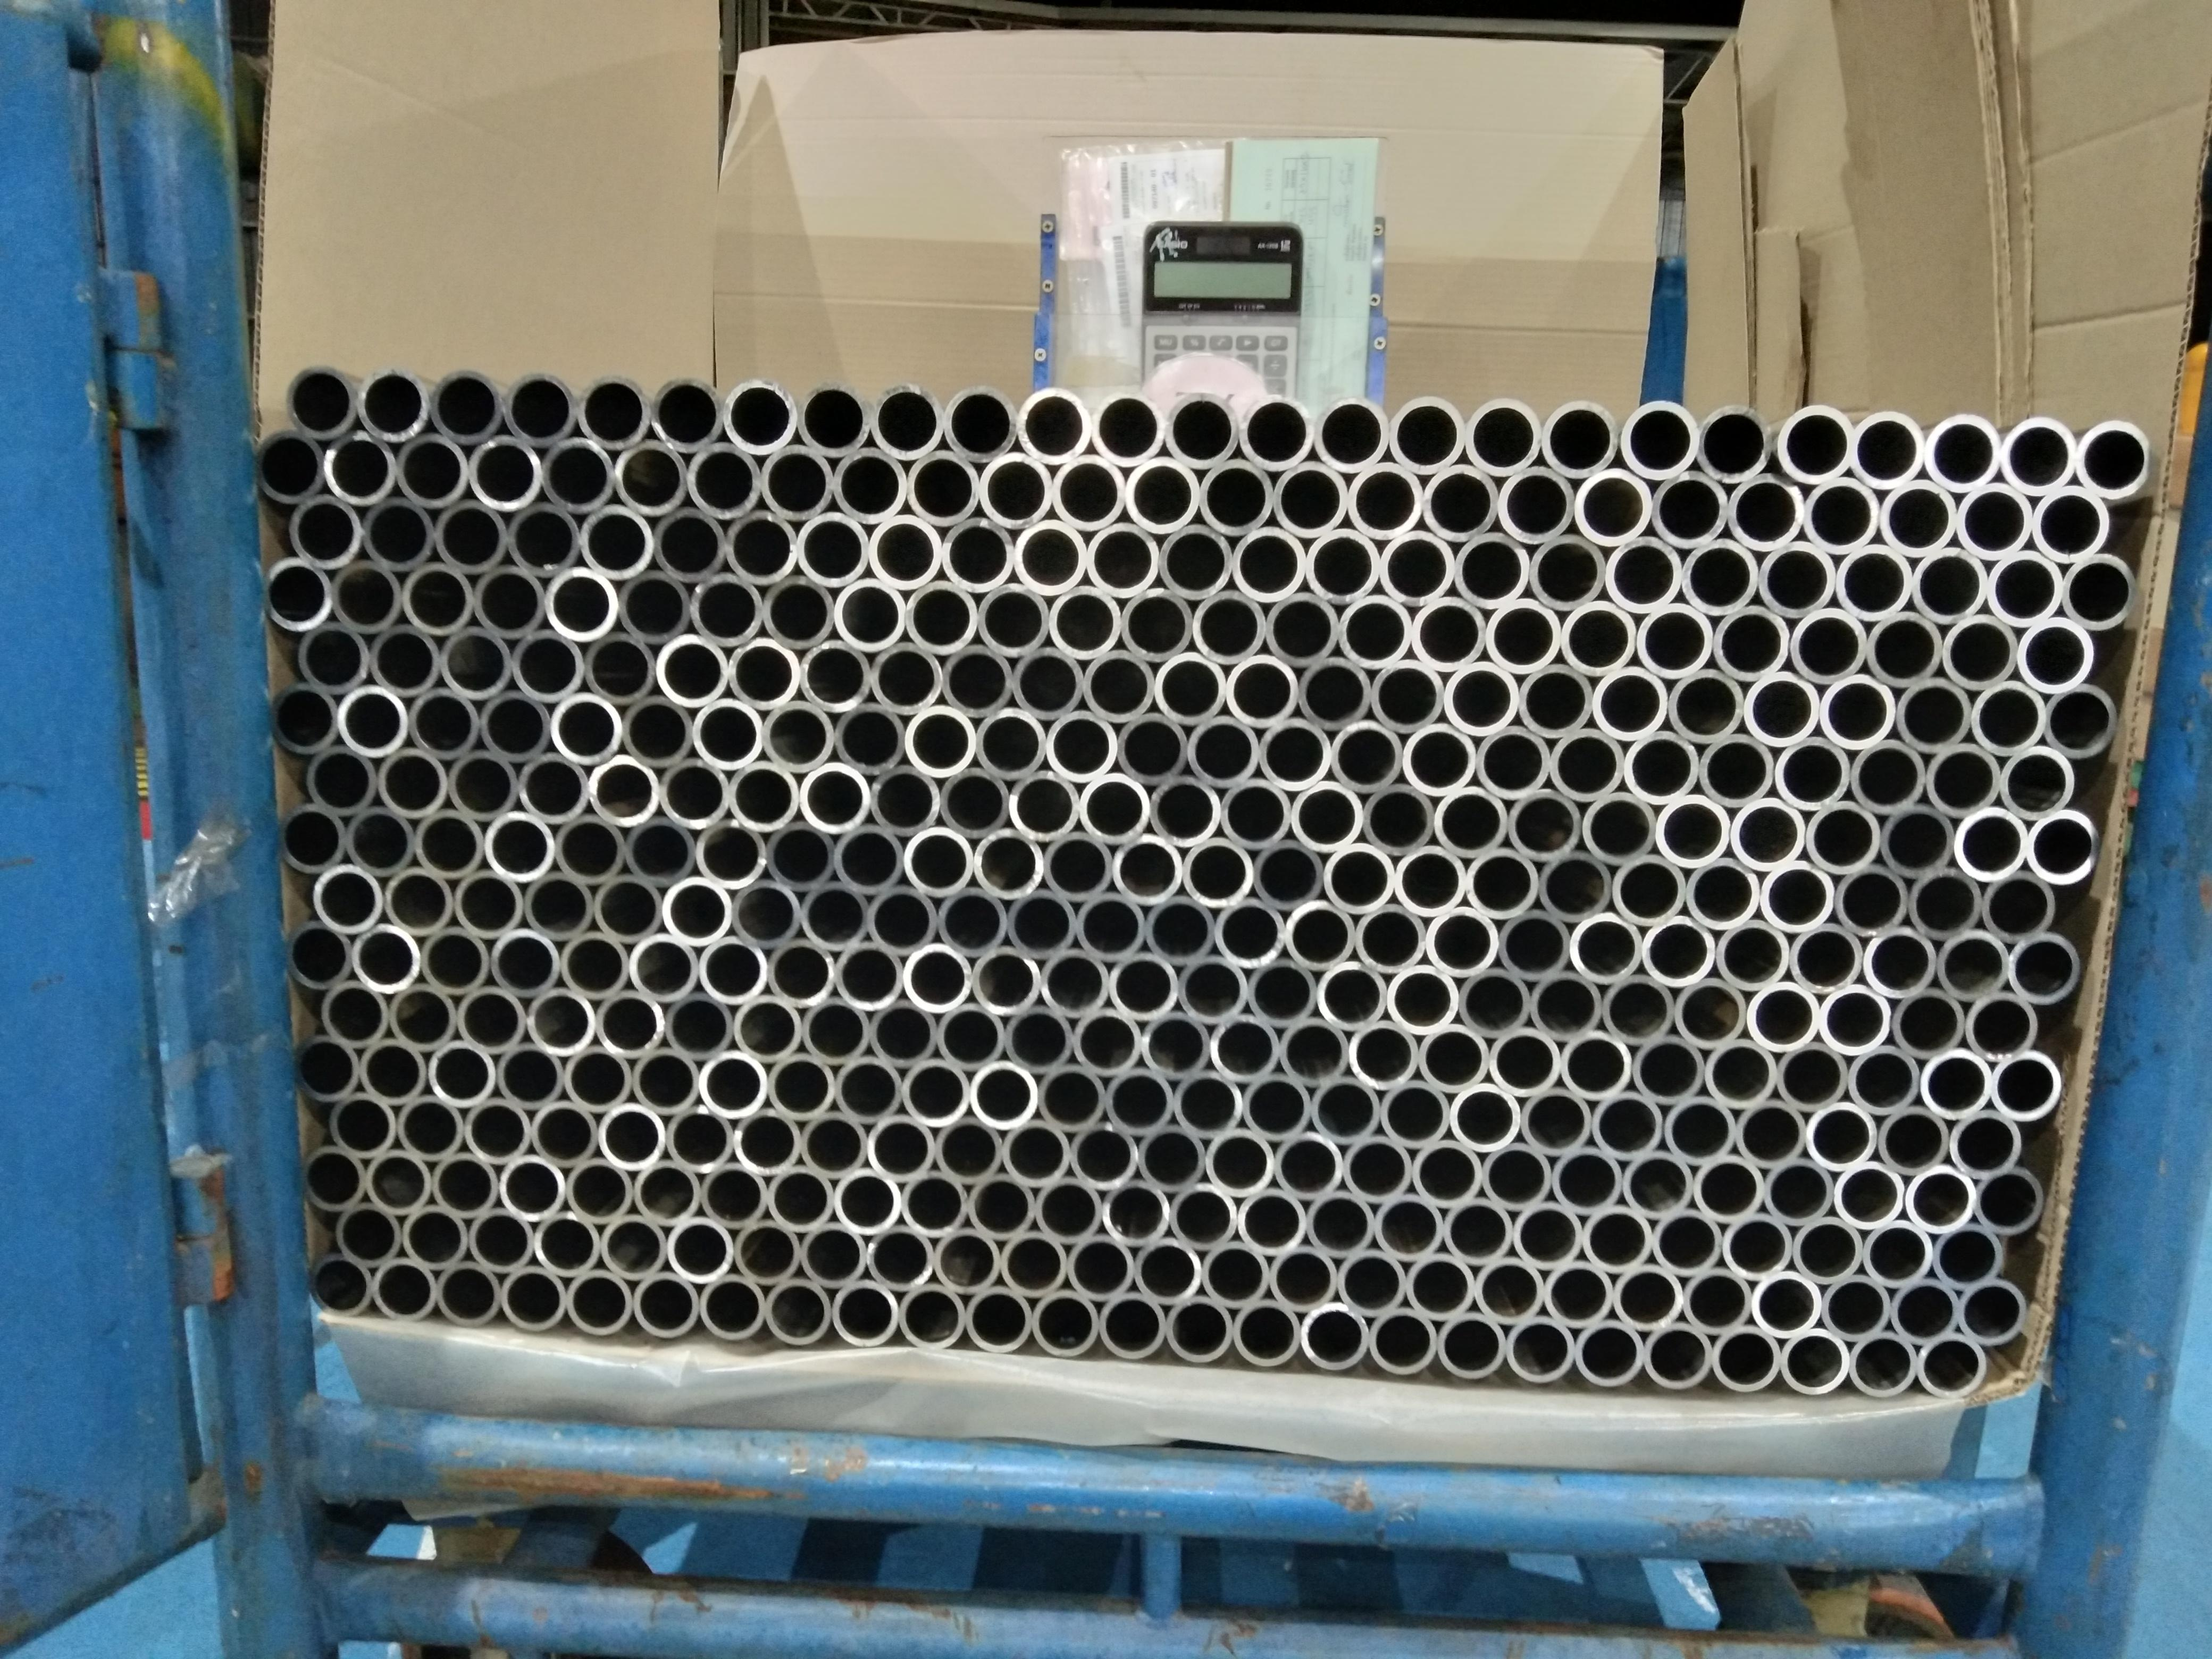pipe: (1572, 464, 1652, 548), (1694, 401, 1773, 484), (1540, 397, 1620, 479), (1650, 466, 1728, 550), (2073, 418, 2152, 500), (1787, 605, 1867, 686), (1528, 530, 1607, 612), (612, 435, 690, 518), (1774, 404, 1853, 485), (1496, 463, 1575, 544), (1197, 455, 1275, 538), (1802, 473, 1880, 555), (2031, 481, 2108, 564), (1623, 400, 1703, 480), (1833, 541, 1913, 622), (1463, 396, 1542, 476), (1680, 536, 1759, 617), (1421, 460, 1498, 542), (1726, 470, 1804, 552), (1955, 479, 2032, 561), (1451, 529, 1530, 609), (1878, 477, 1957, 557), (1756, 539, 1835, 618), (1605, 533, 1682, 614), (1162, 389, 1240, 470), (1999, 415, 2076, 496), (1124, 453, 1200, 535), (1711, 603, 1789, 682), (1817, 672, 1896, 750), (1547, 725, 1627, 803), (1865, 608, 1942, 688), (1909, 544, 1987, 625), (1485, 594, 1562, 675), (1272, 457, 1347, 540), (1635, 600, 1713, 680), (1941, 611, 2018, 691), (427, 365, 505, 445), (1387, 395, 1465, 474), (1923, 412, 2000, 492), (1579, 789, 1659, 866), (1347, 459, 1422, 541), (1409, 594, 1487, 673), (1157, 521, 1234, 601), (2060, 549, 2136, 630), (2016, 614, 2092, 694), (575, 370, 651, 451), (1847, 408, 1923, 489), (1666, 667, 1745, 744), (1924, 740, 2001, 819), (1878, 802, 1956, 879), (1742, 668, 1819, 748), (1848, 736, 1925, 815), (1985, 548, 2062, 627), (977, 450, 1053, 530), (1051, 451, 1126, 533), (1591, 664, 1669, 742), (1653, 792, 1731, 870), (1516, 660, 1594, 739), (1894, 675, 1971, 753), (1622, 728, 1700, 806), (1379, 527, 1455, 607), (616, 566, 692, 646), (1443, 658, 1519, 738), (904, 448, 980, 528), (501, 367, 576, 448), (467, 431, 542, 512), (540, 434, 615, 515), (395, 428, 468, 510), (942, 383, 1018, 462), (685, 440, 761, 519), (506, 498, 581, 578), (1085, 518, 1160, 599), (1697, 731, 1774, 809), (1772, 734, 1850, 811), (283, 361, 360, 439), (1969, 678, 2045, 757), (2040, 680, 2116, 759), (1239, 393, 1315, 472), (1312, 394, 1388, 473), (1998, 743, 2074, 822), (1305, 525, 1379, 605), (832, 444, 907, 524), (1562, 601, 1639, 678), (1505, 786, 1583, 862), (1296, 653, 1372, 732), (1151, 649, 1227, 727), (940, 514, 1015, 593), (1013, 517, 1087, 597), (1263, 589, 1338, 669), (760, 442, 834, 522), (1231, 523, 1305, 603), (650, 372, 723, 453), (1119, 585, 1194, 663), (1190, 587, 1266, 665), (1337, 591, 1412, 669), (796, 379, 871, 458), (1369, 657, 1445, 734), (1804, 798, 1881, 875), (471, 562, 547, 639), (1474, 723, 1550, 800), (1953, 805, 2028, 883), (361, 493, 435, 572), (869, 381, 944, 460), (1090, 388, 1164, 466), (579, 501, 653, 581), (724, 506, 797, 586), (356, 363, 429, 443), (1017, 385, 1090, 465), (581, 629, 657, 706), (1328, 717, 1404, 794), (1729, 795, 1805, 872), (1081, 646, 1155, 724), (1402, 719, 1476, 798), (796, 509, 870, 588), (433, 496, 507, 575), (723, 376, 797, 455), (323, 428, 396, 507), (1360, 780, 1436, 856), (1463, 845, 1539, 921), (832, 575, 907, 652), (725, 634, 800, 711), (868, 512, 942, 591), (439, 622, 512, 701), (1114, 710, 1189, 786), (975, 581, 1050, 657), (619, 692, 694, 769), (1432, 783, 1507, 859), (904, 578, 978, 655), (296, 618, 370, 696), (651, 505, 725, 583), (833, 699, 907, 777), (289, 492, 363, 569), (400, 559, 473, 637), (544, 564, 617, 642), (1048, 582, 1121, 660), (1044, 706, 1118, 784), (1256, 715, 1331, 792), (761, 573, 834, 650), (368, 621, 441, 698), (761, 697, 834, 775), (510, 626, 584, 702), (1540, 849, 1614, 925), (406, 684, 480, 761), (479, 687, 552, 764), (1225, 651, 1297, 729), (253, 426, 325, 504), (1320, 840, 1395, 915), (1288, 778, 1363, 853), (690, 571, 764, 648), (656, 632, 729, 709), (1011, 644, 1084, 720), (515, 753, 593, 824), (1146, 773, 1221, 848), (1218, 775, 1292, 850), (974, 705, 1047, 781), (1686, 857, 1759, 933), (1760, 860, 1833, 936), (1832, 865, 1906, 941), (1980, 868, 2054, 944), (2006, 931, 2080, 1007), (940, 642, 1012, 718), (550, 689, 622, 766), (1424, 904, 1498, 978), (798, 637, 872, 713), (1393, 842, 1466, 918), (1907, 868, 1980, 944), (1495, 909, 1569, 984), (1568, 912, 1641, 988), (1643, 914, 1716, 989), (1716, 917, 1790, 993), (1789, 921, 1862, 996), (1863, 926, 1936, 1002), (1936, 928, 2009, 1004), (1385, 961, 1458, 1037), (1457, 966, 1530, 1042), (1527, 971, 1600, 1047), (1600, 972, 1673, 1048), (1675, 976, 1749, 1052), (1746, 978, 1819, 1053), (1817, 984, 1890, 1060), (1891, 986, 1965, 1061), (1965, 988, 2039, 1064), (1345, 1021, 1419, 1096), (1419, 1022, 1492, 1097), (1488, 1027, 1562, 1103), (1560, 1029, 1633, 1105), (1631, 1033, 1704, 1109), (1706, 1038, 1779, 1113), (1773, 1043, 1847, 1118), (1847, 1045, 1920, 1120), (1921, 1045, 1994, 1120), (1988, 1050, 2061, 1125), (1237, 1068, 1311, 1144), (1308, 1073, 1381, 1149), (1377, 1078, 1450, 1154), (1446, 1082, 1520, 1158), (1520, 1084, 1594, 1160), (1590, 1089, 1663, 1164), (1664, 1094, 1737, 1170), (1732, 1098, 1806, 1174), (1803, 1101, 1876, 1176), (1875, 1103, 1949, 1179), (1947, 1105, 2020, 1181), (1271, 1128, 1345, 1203), (1691, 1153, 1765, 1229), (1763, 1154, 1836, 1230), (1835, 1157, 1908, 1233), (1904, 1163, 1977, 1238), (1973, 1164, 2047, 1239), (329, 558, 401, 634), (936, 765, 1010, 840), (1077, 770, 1151, 844), (1250, 838, 1324, 912), (657, 755, 731, 829), (1612, 852, 1686, 927), (2026, 808, 2098, 884), (869, 640, 941, 716), (1353, 901, 1426, 975), (1187, 712, 1259, 789), (552, 811, 626, 885), (624, 814, 697, 888), (903, 703, 976, 777), (1180, 834, 1253, 909), (445, 747, 517, 822), (483, 809, 556, 883), (337, 683, 409, 758), (588, 752, 659, 827), (832, 822, 904, 895), (1074, 890, 1147, 963), (1316, 958, 1388, 1032), (1008, 767, 1079, 842), (1041, 828, 1112, 903), (1212, 895, 1285, 968), (305, 744, 378, 816), (868, 764, 940, 837), (413, 806, 485, 879), (971, 827, 1043, 900), (902, 824, 975, 896), (1111, 832, 1183, 906), (522, 870, 595, 942), (867, 882, 938, 955), (1277, 1016, 1350, 1087), (376, 745, 447, 819), (1144, 893, 1214, 967), (1409, 1141, 1482, 1211), (1478, 1143, 1552, 1213), (1548, 1146, 1622, 1217), (1622, 1151, 1696, 1222), (1372, 1192, 1446, 1262), (1441, 1198, 1515, 1269), (1511, 1202, 1585, 1272), (1580, 1204, 1654, 1275), (1649, 1208, 1723, 1278), (1720, 1211, 1794, 1282), (1790, 1215, 1864, 1286), (1863, 1220, 1937, 1291), (1929, 1221, 2002, 1292), (1403, 1254, 1477, 1325), (1473, 1256, 1547, 1327), (1611, 1262, 1685, 1333), (1541, 1262, 1615, 1333), (1680, 1268, 1754, 1339), (1749, 1269, 1823, 1340), (1820, 1273, 1894, 1344), (1887, 1274, 1961, 1345), (1953, 1278, 2027, 1348), (1432, 1312, 1506, 1383), (1505, 1314, 1579, 1385), (1571, 1318, 1645, 1388), (1639, 1321, 1713, 1392), (1708, 1321, 1782, 1392), (1779, 1327, 1853, 1398), (1847, 1329, 1921, 1400), (1914, 1331, 1988, 1402), (381, 865, 453, 937), (452, 867, 524, 939), (488, 927, 560, 999), (1038, 946, 1110, 1019), (936, 885, 1008, 957), (312, 862, 384, 933), (801, 761, 872, 834), (345, 804, 415, 877), (270, 681, 339, 756), (901, 944, 975, 1013), (764, 819, 835, 891), (1005, 888, 1077, 959), (764, 936, 836, 1007), (419, 924, 490, 996), (799, 878, 868, 952), (727, 760, 799, 832), (1285, 902, 1357, 973), (1343, 1136, 1415, 1207), (352, 923, 422, 995), (695, 816, 765, 889), (695, 697, 763, 772), (628, 932, 699, 1003), (1178, 956, 1249, 1027), (1248, 957, 1319, 1028), (1070, 1008, 1141, 1079), (1209, 1012, 1279, 1084), (1139, 1013, 1210, 1084), (592, 872, 663, 944), (661, 874, 732, 946), (1107, 951, 1179, 1021), (1003, 1003, 1073, 1075), (1036, 1061, 1105, 1134), (1105, 1064, 1174, 1137), (1171, 1069, 1240, 1142), (1069, 1117, 1138, 1189), (1002, 1118, 1071, 1191), (1141, 1121, 1210, 1194), (1204, 1128, 1273, 1201), (1034, 1174, 1103, 1246), (1101, 1176, 1170, 1249), (1167, 1181, 1236, 1254), (1235, 1186, 1304, 1259), (1305, 1188, 1374, 1261), (1134, 1235, 1203, 1308), (1200, 1239, 1269, 1312), (1267, 1243, 1336, 1316), (1338, 1246, 1407, 1319), (1164, 1292, 1234, 1365), (1233, 1296, 1302, 1369), (1300, 1298, 1369, 1371), (1368, 1306, 1437, 1379), (833, 939, 903, 1010), (455, 984, 526, 1054), (867, 998, 938, 1069), (935, 1000, 1006, 1071), (898, 1170, 970, 1240), (800, 994, 869, 1067), (696, 934, 767, 1004), (663, 990, 733, 1061), (697, 1052, 768, 1122), (767, 1054, 838, 1124), (835, 1056, 906, 1126), (901, 1057, 971, 1127), (800, 1110, 871, 1180), (864, 1114, 935, 1184), (932, 1117, 1003, 1187), (966, 1172, 1036, 1242), (931, 1225, 1001, 1295), (998, 1231, 1069, 1301), (1065, 1232, 1136, 1302), (1030, 1291, 1101, 1361), (1097, 1291, 1168, 1361), (970, 944, 1040, 1016), (969, 1059, 1038, 1130), (732, 881, 803, 950), (386, 982, 457, 1050), (731, 993, 801, 1063), (319, 977, 388, 1048), (529, 1099, 599, 1168), (276, 803, 346, 874), (425, 1037, 496, 1106), (491, 1042, 562, 1110), (286, 918, 353, 991), (395, 1093, 465, 1161), (559, 932, 629, 1001), (594, 987, 664, 1057), (526, 988, 595, 1058), (358, 1035, 427, 1104), (562, 1044, 631, 1113), (631, 1046, 700, 1116), (597, 1102, 668, 1169), (665, 1107, 735, 1174), (734, 1108, 805, 1175), (564, 1157, 635, 1224), (634, 1158, 705, 1225), (699, 1161, 770, 1228), (766, 1166, 836, 1233), (832, 1170, 903, 1237), (799, 1110, 868, 1178), (328, 1090, 396, 1159), (301, 1142, 368, 1211), (365, 1150, 432, 1219), (430, 1151, 498, 1220), (498, 1153, 565, 1222), (335, 1198, 403, 1267), (399, 1204, 467, 1273), (468, 1207, 535, 1276), (600, 1211, 667, 1280), (533, 1212, 601, 1281), (666, 1217, 733, 1286), (731, 1219, 798, 1288), (799, 1221, 867, 1290), (867, 1224, 935, 1293), (306, 1252, 373, 1321), (372, 1254, 439, 1323), (435, 1259, 503, 1328), (502, 1263, 569, 1333), (632, 1268, 700, 1337), (564, 1270, 631, 1339), (697, 1272, 765, 1342), (765, 1276, 832, 1345), (833, 1280, 901, 1349), (899, 1283, 966, 1352), (966, 1287, 1033, 1356), (464, 1095, 531, 1164), (293, 1035, 359, 1103)
